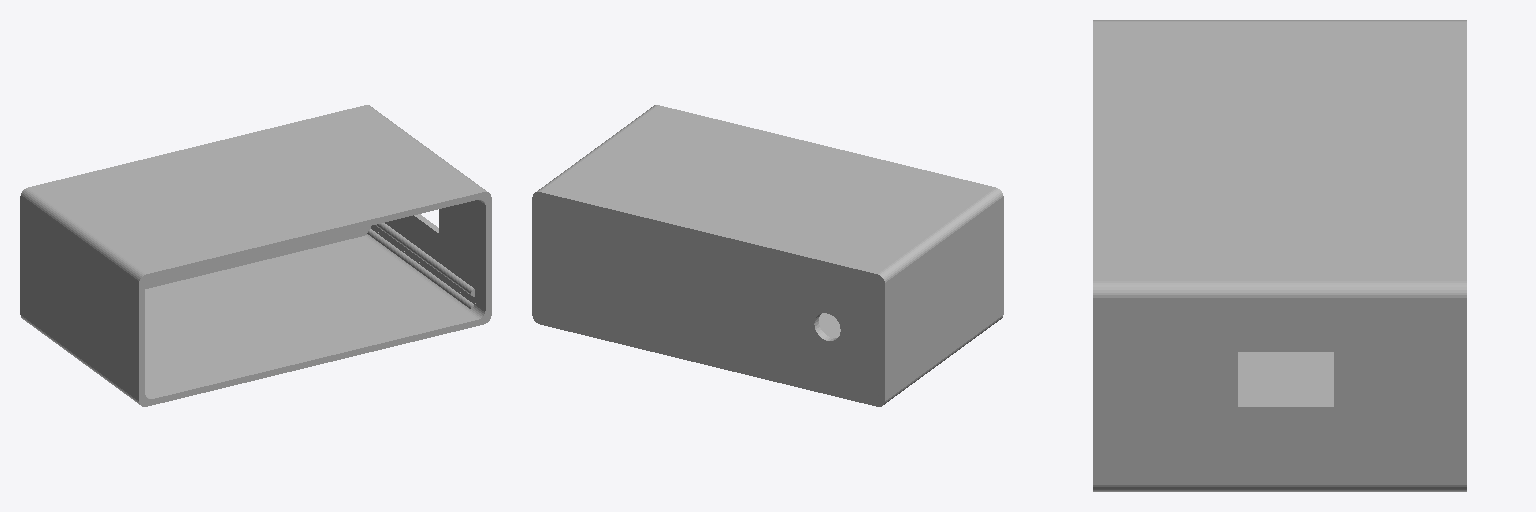
URDF robot description (root):
<?xml version='1.0' encoding='utf-8'?>
<robot name="root">
  <link name="link_001">
    <visual>
      <origin xyz="0 0 0" rpy="0 0 0" />
      <geometry>
        <mesh filename="fecb694f8db3634dac29e3326a10085b94f9b2f73991288a864a0699af9d763f_scale_000.stl" scale="1.0000E+00 1.0000E+00 1.0000E+00" />
      </geometry>
      <material name="">
        <color rgba="7.50E-01 7.50E-01 7.50E-01 1" />
      </material>
    </visual>
    <collision>
      <origin xyz="0 0 0" rpy="0 0 0" />
      <geometry>
        <mesh filename="fecb694f8db3634dac29e3326a10085b94f9b2f73991288a864a0699af9d763f_scale_000.stl" scale="1.0000E+00 1.0000E+00 1.0000E+00" />
      </geometry>
    </collision>
  </link>
</robot>

--- Render facts (derived) ---
3 views of the same robot in one strip: view 1: azimuth 30°, elevation 25°; view 2: azimuth 150°, elevation 25°; view 3: azimuth 270°, elevation 25° (orthographic).
Robot: root — 1 links, 0 joints (none); root link link_001; default pose: every joint at zero.
Links seen in each view (by area): view 1: link_001; view 2: link_001; view 3: link_001.
Link boxes in pixels (left/top/right/bottom): link_001: left=20, top=105, right=491, bottom=406; link_001: left=532, top=105, right=1003, bottom=406; link_001: left=1093, top=20, right=1466, bottom=491.
Bounding box of the posed robot: 0.12 × 0.07 × 0.0431 m (x, y, z).
Meshes: 1 distinct files referenced, 1 mesh visuals loaded (1 binary STL).
